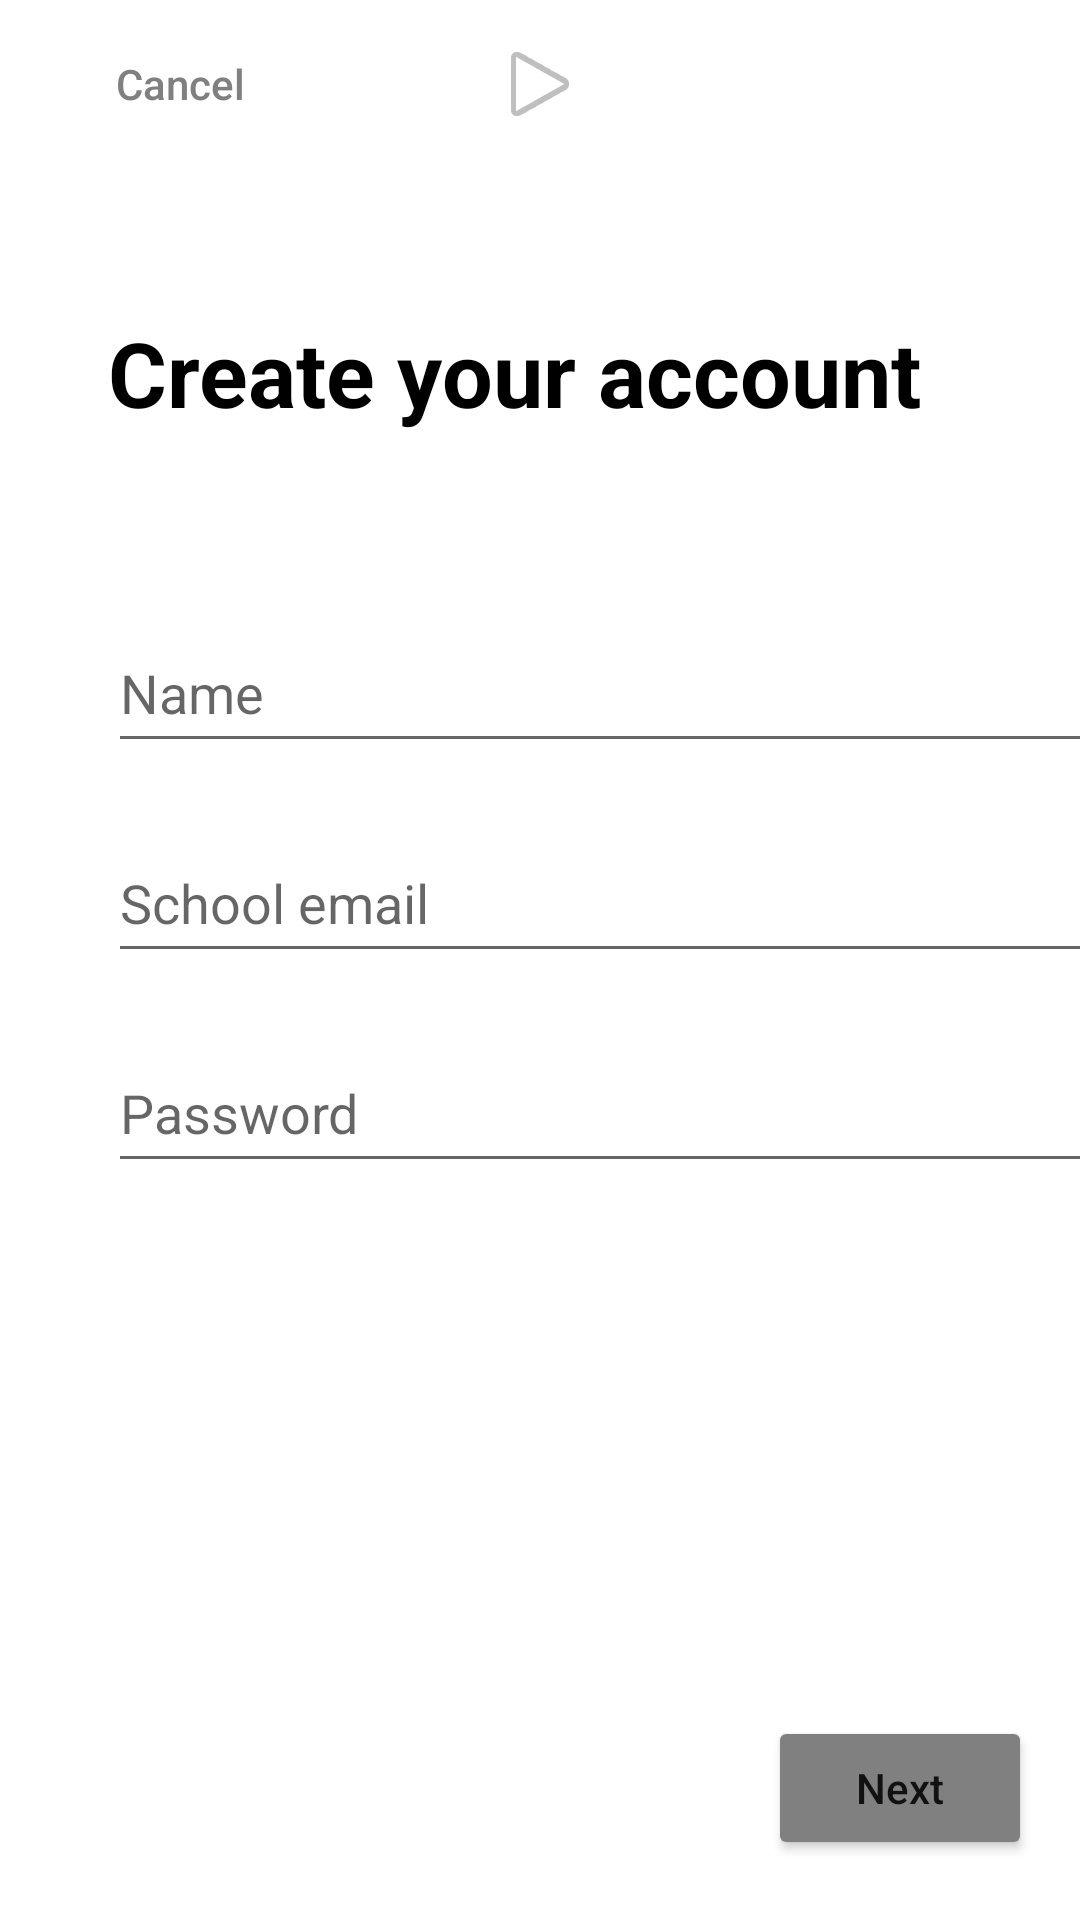

Icons on this 1080 x 1920 Android screen, each with its box as (x1, y1, x2, y2):
play: (511, 52, 569, 116)
